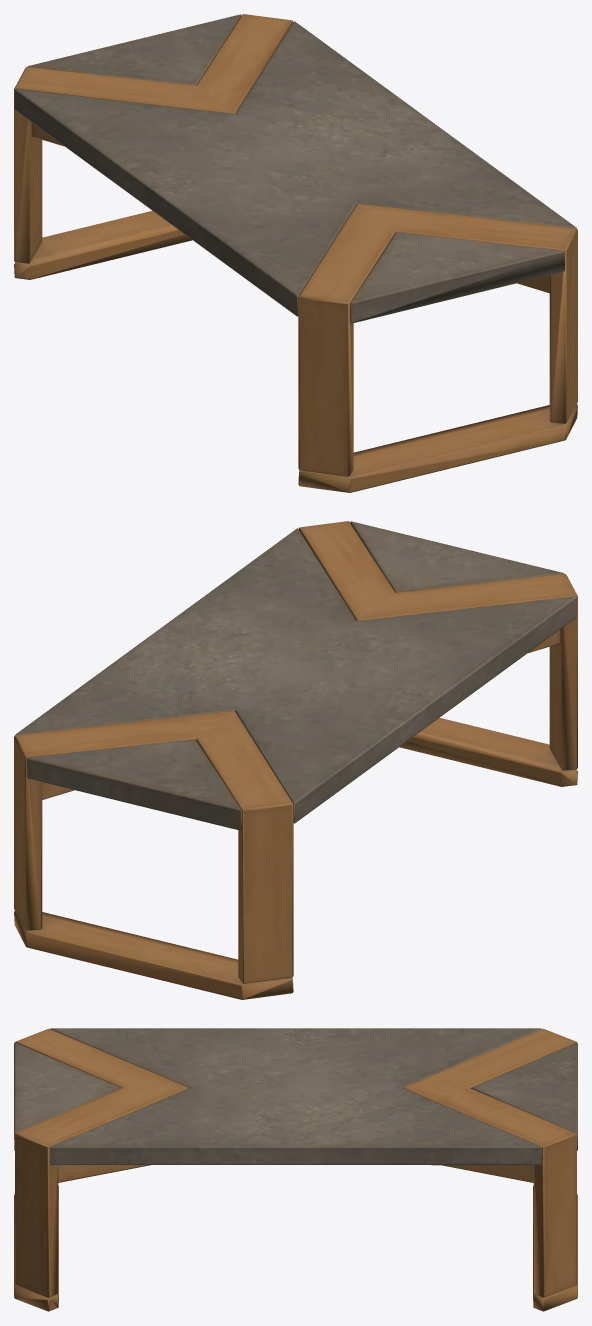
File: modern_coffee_table_01.glb
3 views of the same model, one above another, from view 1: azimuth 30°, elevation 25°; view 2: azimuth 150°, elevation 25°; view 3: azimuth 270°, elevation 25° (orthographic). The views are drawn at different scales.
Parts seen in each view (by area): view 1: modern_coffee_table_01; view 2: modern_coffee_table_01; view 3: modern_coffee_table_01.
Boxes of the visible parts, x1,y1,x2,y2 form: modern_coffee_table_01: [14, 14, 577, 492]; modern_coffee_table_01: [14, 521, 577, 999]; modern_coffee_table_01: [14, 1028, 577, 1311].
Size of the model in its own units: 0.5999 by 0.39 by 1.2.
Materials: 1 (1 with a texture image).
